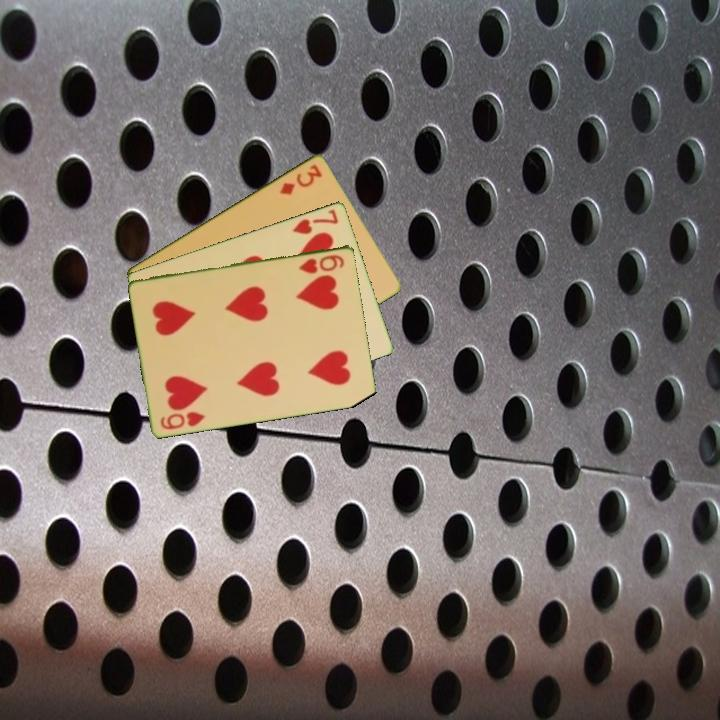3d: (276, 160, 325, 198)
6h: (295, 251, 347, 276), (157, 408, 208, 432)
7h: (289, 205, 341, 237)
